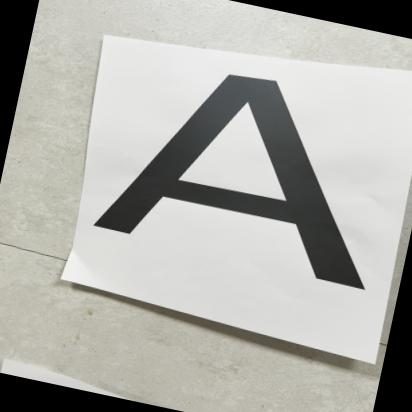seat: (61, 39, 412, 339)
